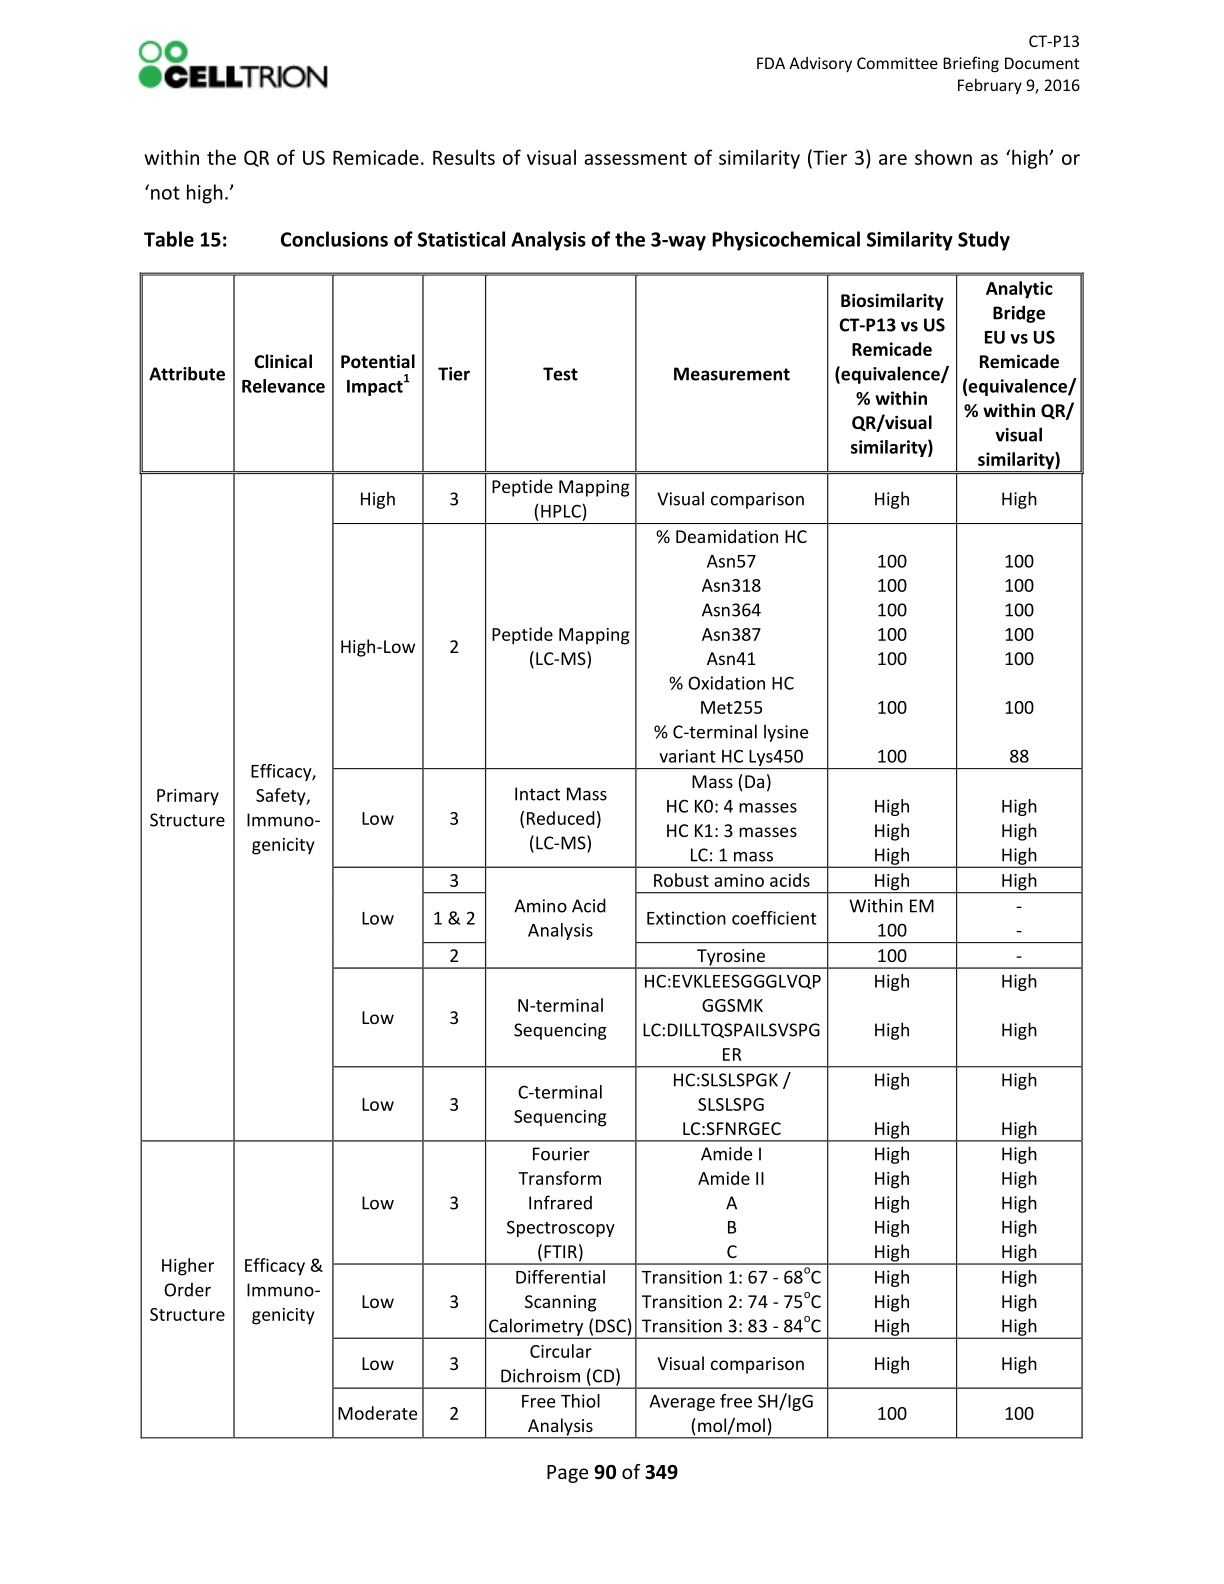merged_cells: (139, 273, 1084, 1440)
